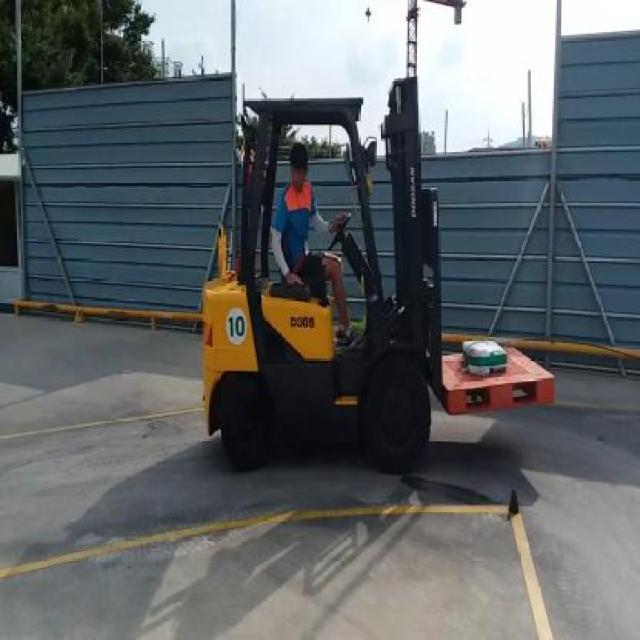forklift: (197, 100, 445, 469)
